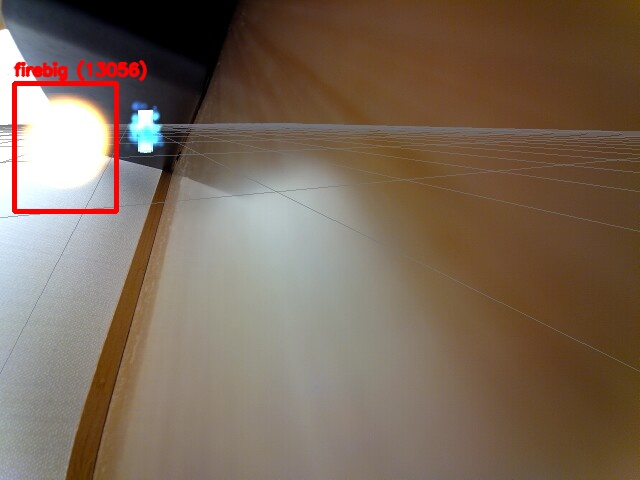firebig: (14, 83, 116, 211)
